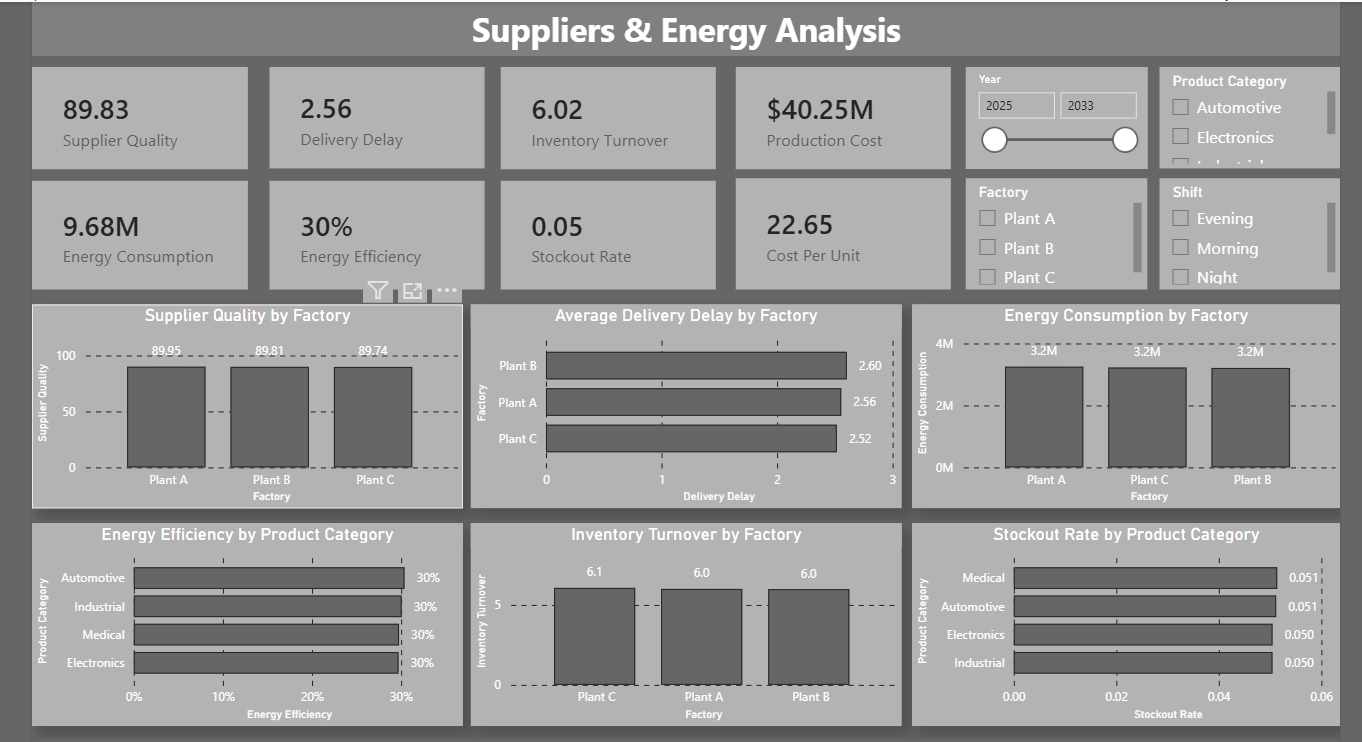

This screenshot's page, from the dashboard's own definition file:
{"tool":"powerbi","page":{"name":"Supplier & Energy Analysis","canvas":[1280,720],"ordinal":3},"visuals":[{"type":"cardVisual","fields":{"Data":["Measure_Table.Average Supplier Quality"]},"box":[0,63,210.8,100.3],"z":0},{"type":"cardVisual","fields":{"Data":["Measure_Table.Average Delivery Delay"]},"box":[232.3,63.6,210.3,99],"z":1000},{"type":"cardVisual","fields":{"Data":["Measure_Table.Total Energy Consumption"]},"box":[0,174.8,210.8,106.7],"z":2000},{"type":"cardVisual","fields":{"Data":["Measure_Table.Average Energy Efficiency"]},"box":[232.3,174.9,210.3,106.4],"z":3000},{"type":"cardVisual","fields":{"Data":["Measure_Table.Average Inventory Turnover"]},"box":[458.6,63.6,210.3,100.3],"z":4000},{"type":"cardVisual","fields":{"Data":["Measure_Table.Avergae Stockout Rate"]},"box":[458.6,174.9,210.3,106.4],"z":5000},{"type":"cardVisual","fields":{"Data":["Measure_Table.Total Production Cost"]},"box":[688.5,63.6,210.3,100.3],"z":6000},{"type":"cardVisual","fields":{"Data":["Measure_Table.Cost Per Unit"]},"box":[688.5,172.4,210.3,108.8],"z":7000},{"type":"clusteredColumnChart","title":"Supplier Quality by Factory","fields":{"Category":["Dim_Factory.Factory"],"Y":["Measure_Table.Average Supplier Quality"]},"box":[0,295.9,421.9,199.3],"z":8000},{"type":"clusteredBarChart","title":"Average Delivery Delay by Factory","fields":{"Category":["Dim_Factory.Factory"],"Y":["Measure_Table.Average Delivery Delay"]},"box":[429.2,295.9,421.9,199.3],"z":9000},{"type":"clusteredColumnChart","title":"Energy Consumption by Factory","fields":{"Y":["Measure_Table.Total Energy Consumption"],"Category":["Dim_Factory.Factory"]},"box":[860.9,295.9,419.4,199.3],"z":10000},{"type":"clusteredBarChart","title":"Energy Efficiency by Product Category","fields":{"Category":["Dim_Product.Product Category"],"Y":["Measure_Table.Average Energy Efficiency"]},"box":[0,509.9,421.9,198.1],"z":11000},{"type":"clusteredColumnChart","title":"Inventory Turnover by Factory","fields":{"Category":["Dim_Factory.Factory"],"Y":["Measure_Table.Average Inventory Turnover"]},"box":[429.2,509.9,421.9,198.1],"z":12000},{"type":"slicer","fields":{"Values":["Dim_Date.Year"]},"box":[913.5,63.6,177.3,99],"z":13000},{"type":"slicer","fields":{"Values":["Dim_Factory.Factory"]},"box":[913.5,172.4,177.3,108.8],"z":14000},{"type":"slicer","fields":{"Values":["Dim_Product.Product Category"]},"box":[1103,63.6,177.3,99],"z":15000},{"type":"slicer","fields":{"Values":["Dim_Shift.Shift"]},"box":[1103,172.4,177.3,108.8],"z":16000},{"type":"clusteredBarChart","title":"Stockout Rate by Product Category","fields":{"Category":["Dim_Product.Product Category"],"Y":["Measure_Table.Avergae Stockout Rate"]},"box":[860.9,509.9,419.4,198.1],"z":17000},{"type":"textbox","box":[0,0,1280.3,52.7],"z":18000}]}

Visuals, with their boxes in screenshot pixels (x1, y1, x2, y2):
cardVisual - Measure_Table.Average Supplier Quality: select_region(28, 64, 242, 166)
cardVisual - Measure_Table.Average Delivery Delay: select_region(264, 65, 478, 165)
cardVisual - Measure_Table.Total Energy Consumption: select_region(28, 177, 242, 286)
cardVisual - Measure_Table.Average Energy Efficiency: select_region(264, 178, 478, 286)
cardVisual - Measure_Table.Average Inventory Turnover: select_region(494, 65, 708, 166)
cardVisual - Measure_Table.Avergae Stockout Rate: select_region(494, 178, 708, 286)
cardVisual - Measure_Table.Total Production Cost: select_region(727, 65, 941, 166)
cardVisual - Measure_Table.Cost Per Unit: select_region(727, 175, 941, 286)
"Supplier Quality by Factory" clusteredColumnChart: select_region(28, 300, 457, 503)
"Average Delivery Delay by Factory" clusteredBarChart: select_region(464, 300, 893, 503)
"Energy Consumption by Factory" clusteredColumnChart: select_region(902, 300, 1328, 503)
"Energy Efficiency by Product Category" clusteredBarChart: select_region(28, 518, 457, 719)
"Inventory Turnover by Factory" clusteredColumnChart: select_region(464, 518, 893, 719)
slicer - Dim_Date.Year: select_region(956, 65, 1136, 165)
slicer - Dim_Factory.Factory: select_region(956, 175, 1136, 286)
slicer - Dim_Product.Product Category: select_region(1148, 65, 1328, 165)
slicer - Dim_Shift.Shift: select_region(1148, 175, 1328, 286)
"Stockout Rate by Product Category" clusteredBarChart: select_region(902, 518, 1328, 719)
textbox: select_region(28, 0, 1328, 54)
